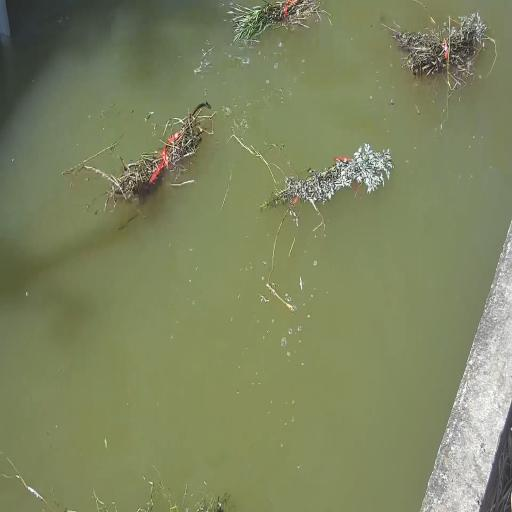twig: (373, 2, 487, 95), (272, 143, 395, 228), (84, 115, 199, 203), (214, 0, 333, 43), (64, 487, 229, 512)
